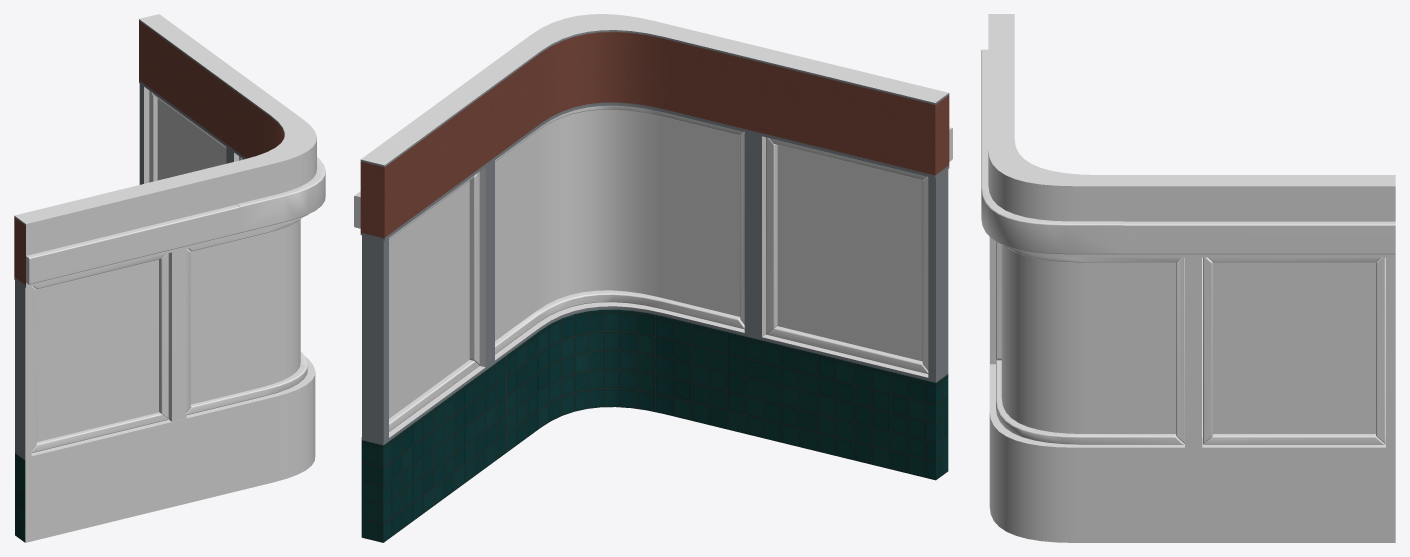
Rendered from SM_Rounded_Window_Corner.fbx.
3 views of the same model, side by side, from view 1: azimuth 30°, elevation 25°; view 2: azimuth 150°, elevation 25°; view 3: azimuth 270°, elevation 25° (orthographic). The views are drawn at different scales.
Parts seen in each view (by area): view 1: SM_Update_Rounded_Window_Corner_v001; view 2: SM_Update_Rounded_Window_Corner_v001; view 3: SM_Update_Rounded_Window_Corner_v001.
Part boxes in pixels (x1,y1,x2,y2): SM_Update_Rounded_Window_Corner_v001: (14,14,325,542); SM_Update_Rounded_Window_Corner_v001: (354,14,952,542); SM_Update_Rounded_Window_Corner_v001: (981,14,1395,542).
Bounding box in the file's own units: 3.15 × 3 × 3.15.
Materials: 3 (1 with a texture image).
